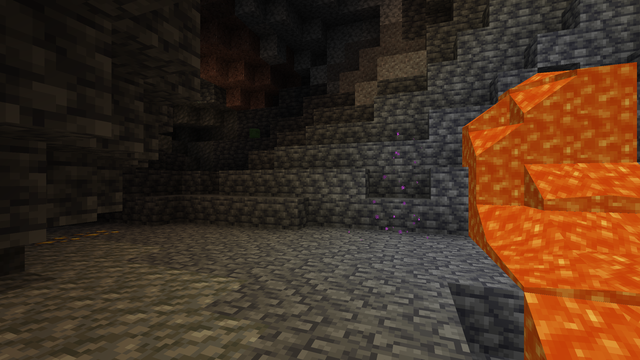slimes: (248, 127, 261, 138)
